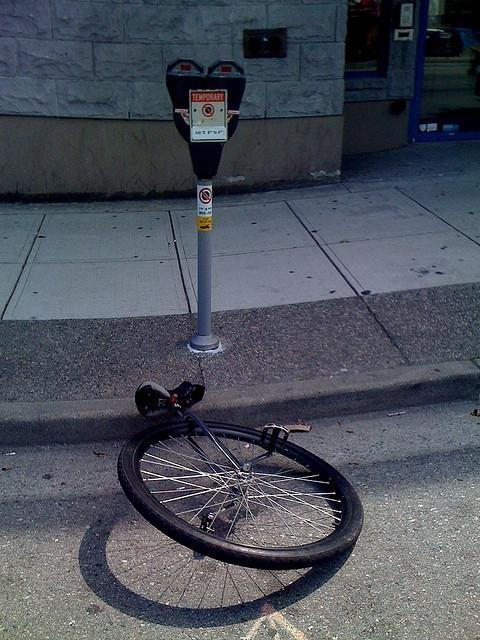bicycle: (118, 379, 367, 571)
